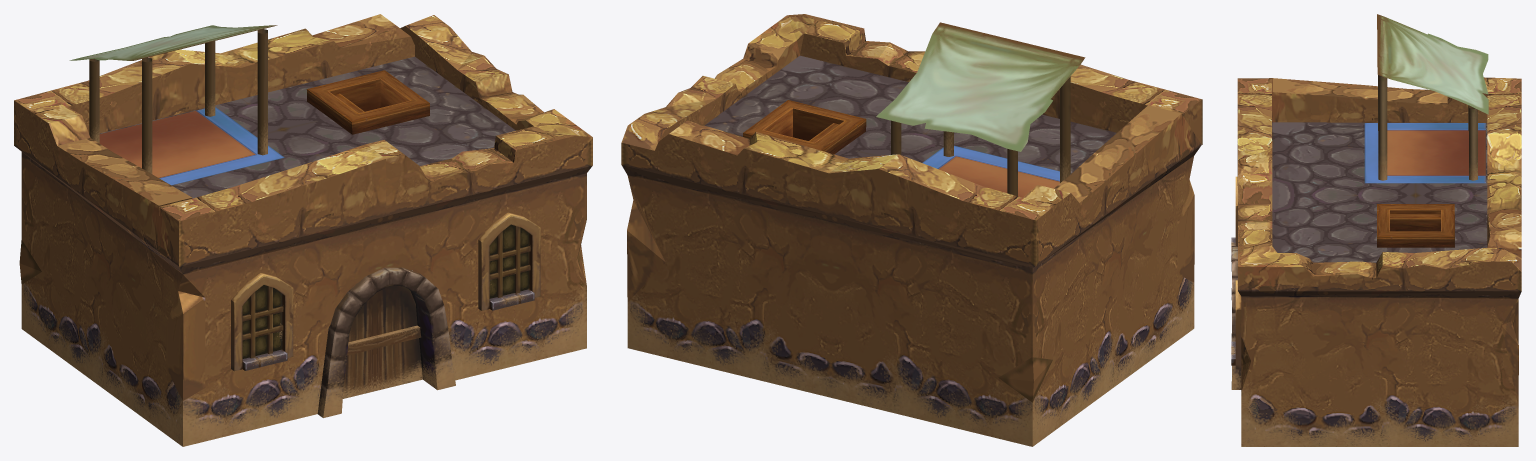
File: fangzi06.FBX
3 views of the same model, side by side, from view 1: azimuth 30°, elevation 25°; view 2: azimuth 150°, elevation 25°; view 3: azimuth 270°, elevation 25° (orthographic). The views are drawn at different scales.
Parts seen in each view (by area): view 1: fangzi06; view 2: fangzi06; view 3: fangzi06.
Part boxes in pixels (x1,y1,x2,y2): fangzi06: (14,14,592,446); fangzi06: (621,14,1202,446); fangzi06: (1231,14,1521,446).
Size of the model in its own units: 218 by 161 by 154.
